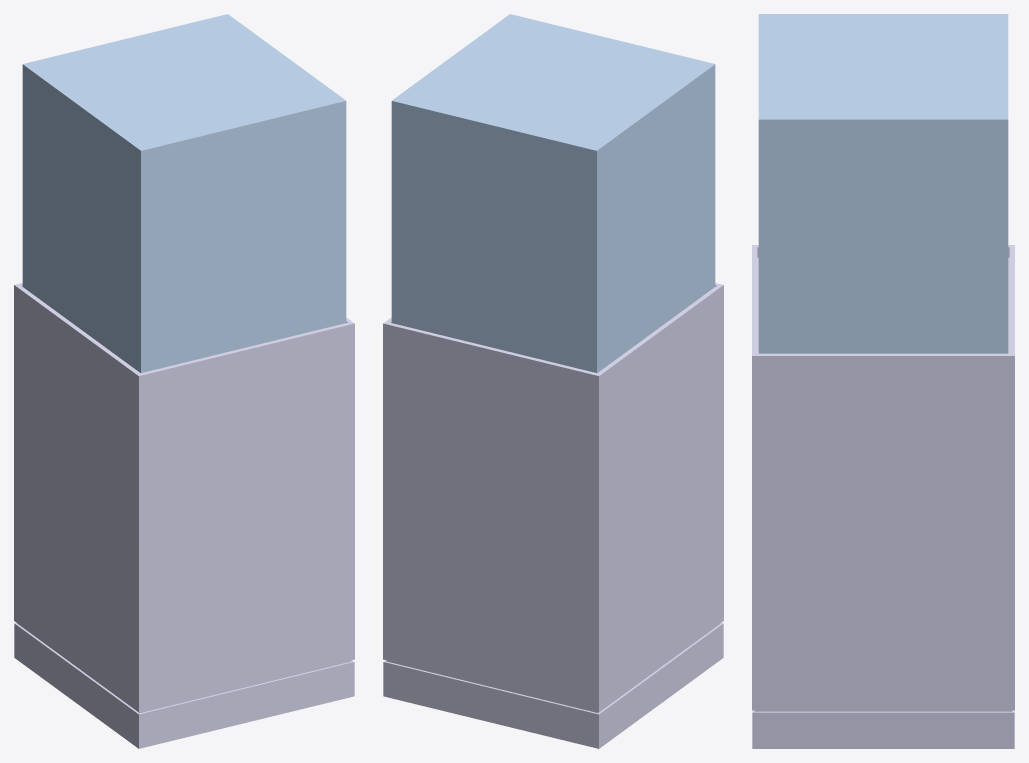
The model's file is museum_case.glb.
3 renders of one model, left to right at view 1: azimuth 30°, elevation 25°; view 2: azimuth 150°, elevation 25°; view 3: azimuth 270°, elevation 25°, orthographic. The views are drawn at different scales.
Visible parts, largest first — view 1: pCube1, pCube2; view 2: pCube1, pCube2; view 3: pCube1, pCube2.
Boxes of the visible parts, box(x1,y1,x2,y2) form: pCube1: box(14, 283, 354, 748); pCube2: box(22, 14, 346, 372); pCube1: box(383, 283, 723, 748); pCube2: box(391, 14, 715, 372); pCube1: box(752, 245, 1014, 748); pCube2: box(758, 14, 1008, 353).
Size of the model in its own units: 7.07 by 18.6 by 7.07.
